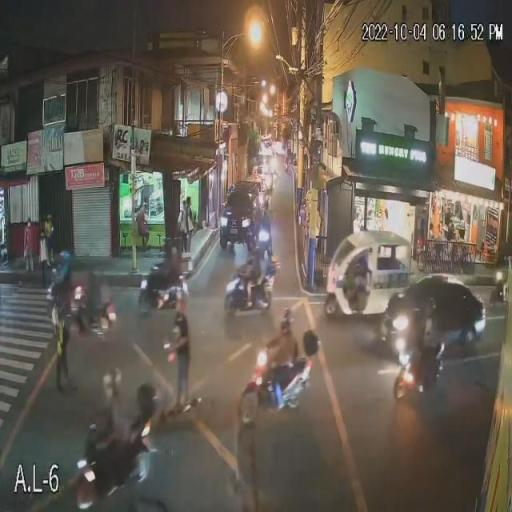helmet: (136, 382, 157, 404), (406, 312, 424, 328), (277, 307, 290, 325), (245, 248, 259, 264), (58, 250, 72, 264)
motorcycle: (75, 383, 160, 511), (237, 330, 319, 426), (390, 324, 448, 410), (49, 276, 117, 342), (222, 254, 276, 318), (135, 270, 191, 314), (251, 222, 280, 276)
rider: (96, 366, 134, 468), (263, 309, 299, 408), (118, 382, 156, 468), (402, 307, 438, 386), (236, 244, 264, 310), (156, 242, 184, 308), (74, 268, 101, 330), (294, 328, 320, 391)
